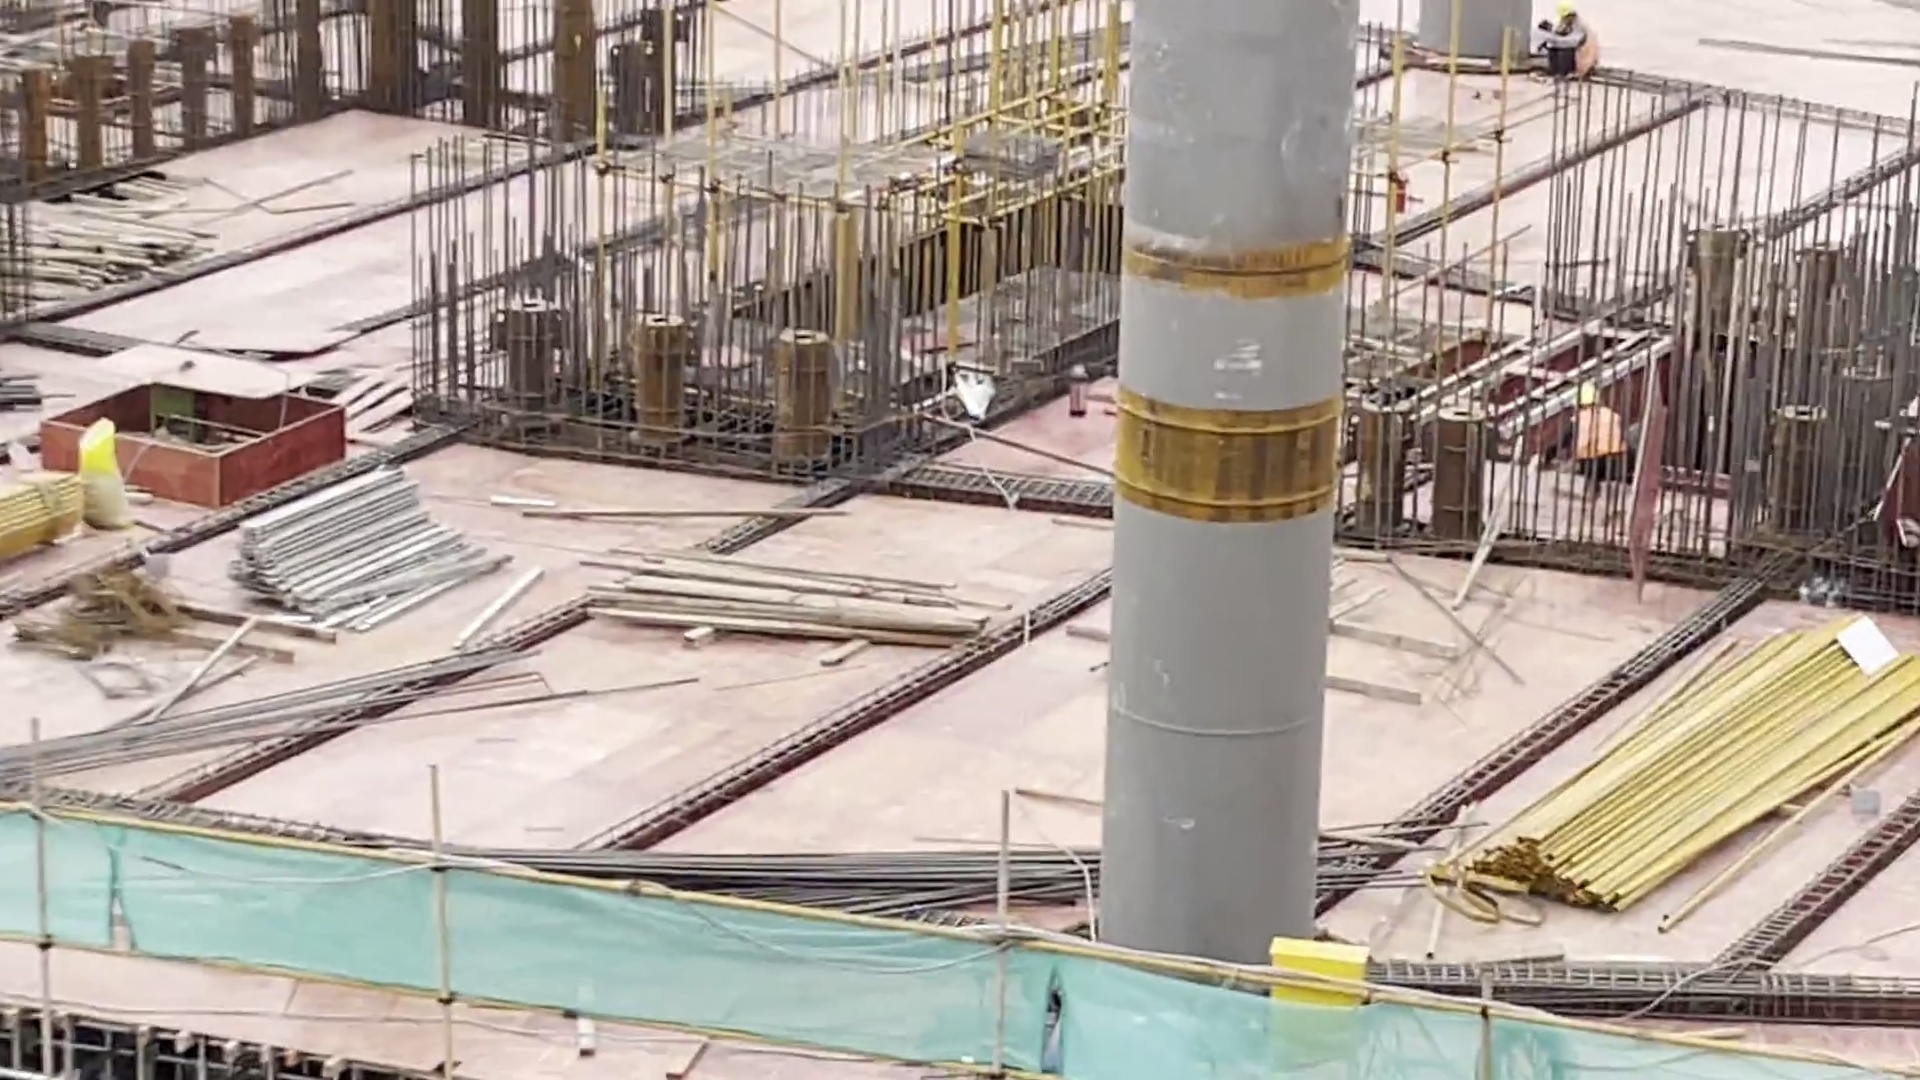helmet: (1556, 1, 1576, 17)
person: (1540, 1, 1606, 92)
